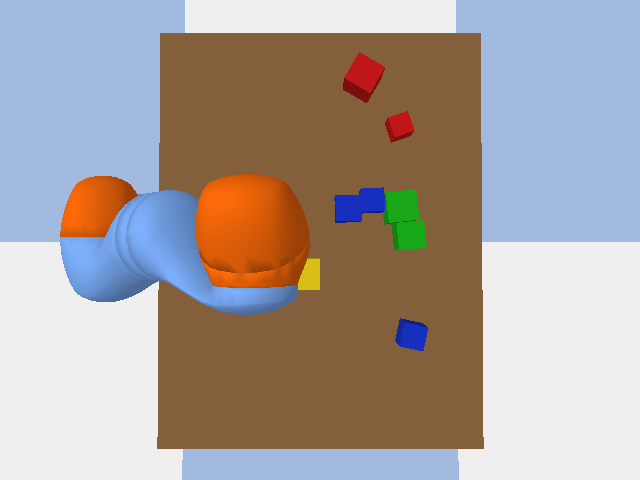blue_obj: (395, 318, 427, 350), (334, 195, 361, 222), (359, 187, 384, 213)
green_obj: (383, 189, 419, 224), (391, 220, 426, 250)
red_obj: (343, 52, 384, 102), (385, 111, 414, 142)
yellow_obj: (298, 258, 319, 289)
